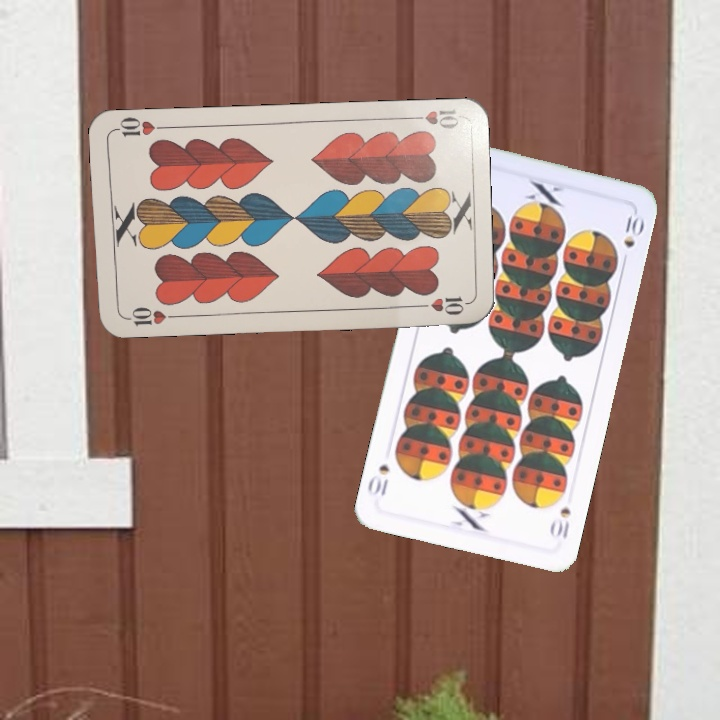H10: (120, 303, 179, 329), (403, 105, 461, 131)
S10: (546, 502, 574, 542)
